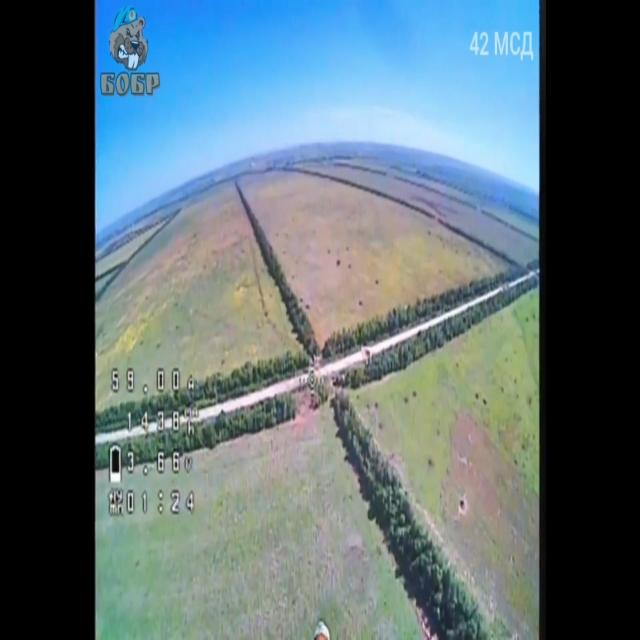cars: (332, 373, 350, 387)
